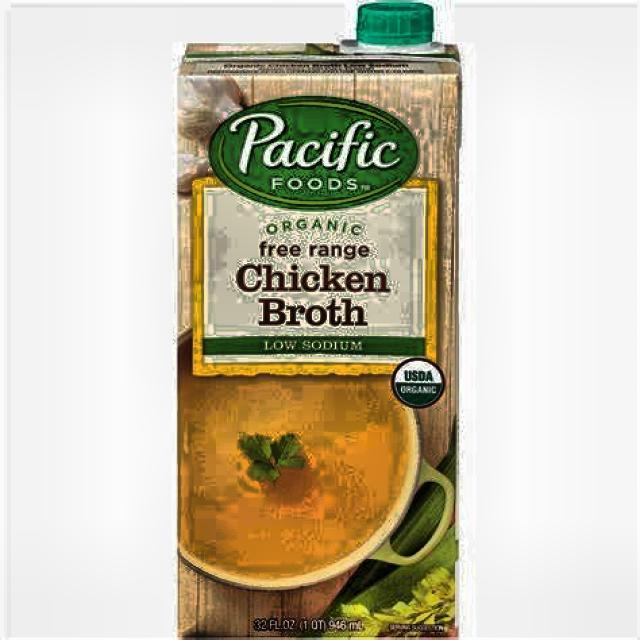cardboard: (174, 41, 460, 638)
